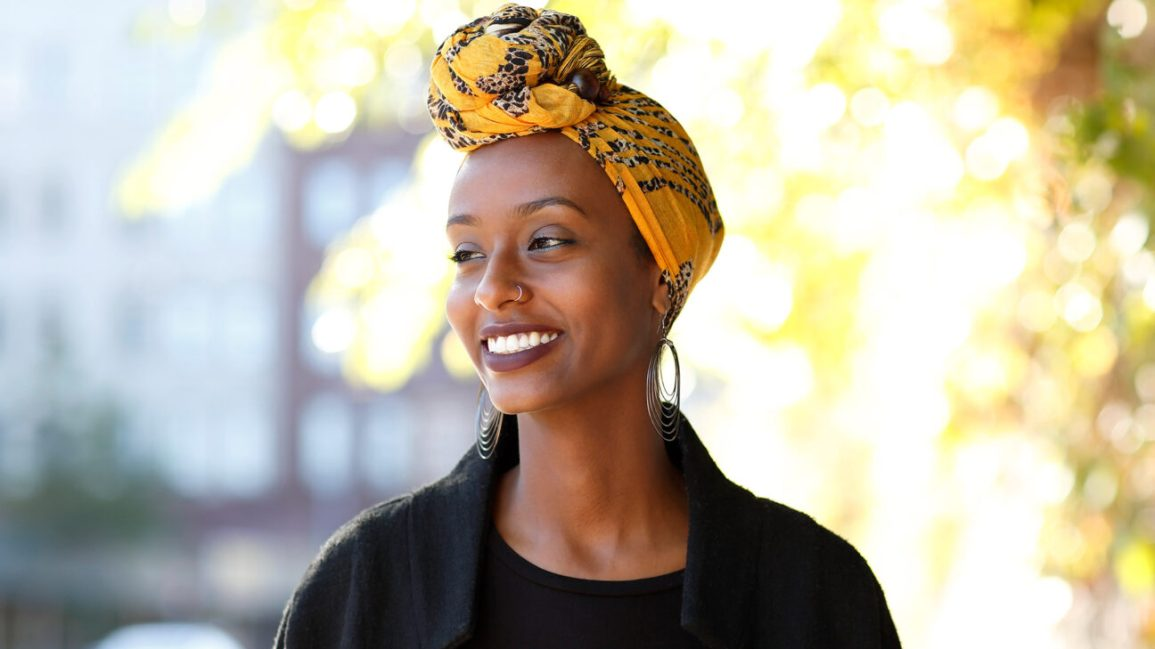without_mask: (444, 141, 622, 407)
